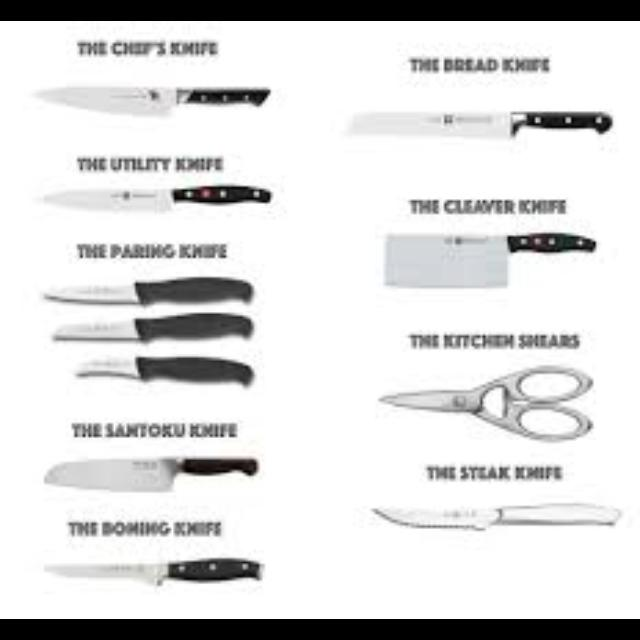Knife: (384, 228, 600, 286), (42, 454, 256, 492), (350, 110, 612, 136), (42, 556, 262, 586), (370, 502, 620, 528), (42, 184, 270, 212), (34, 85, 270, 112), (42, 275, 254, 305), (74, 354, 253, 388), (49, 311, 250, 341)
